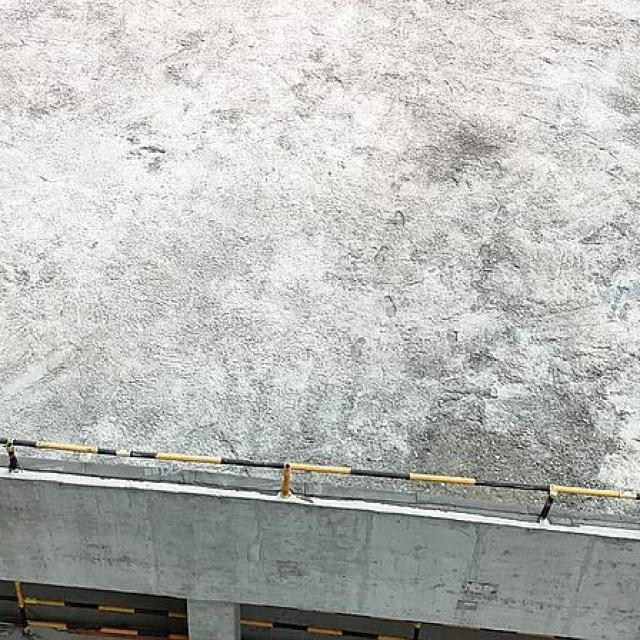edge_guardrail: (0, 437, 640, 527), (0, 580, 440, 640)
